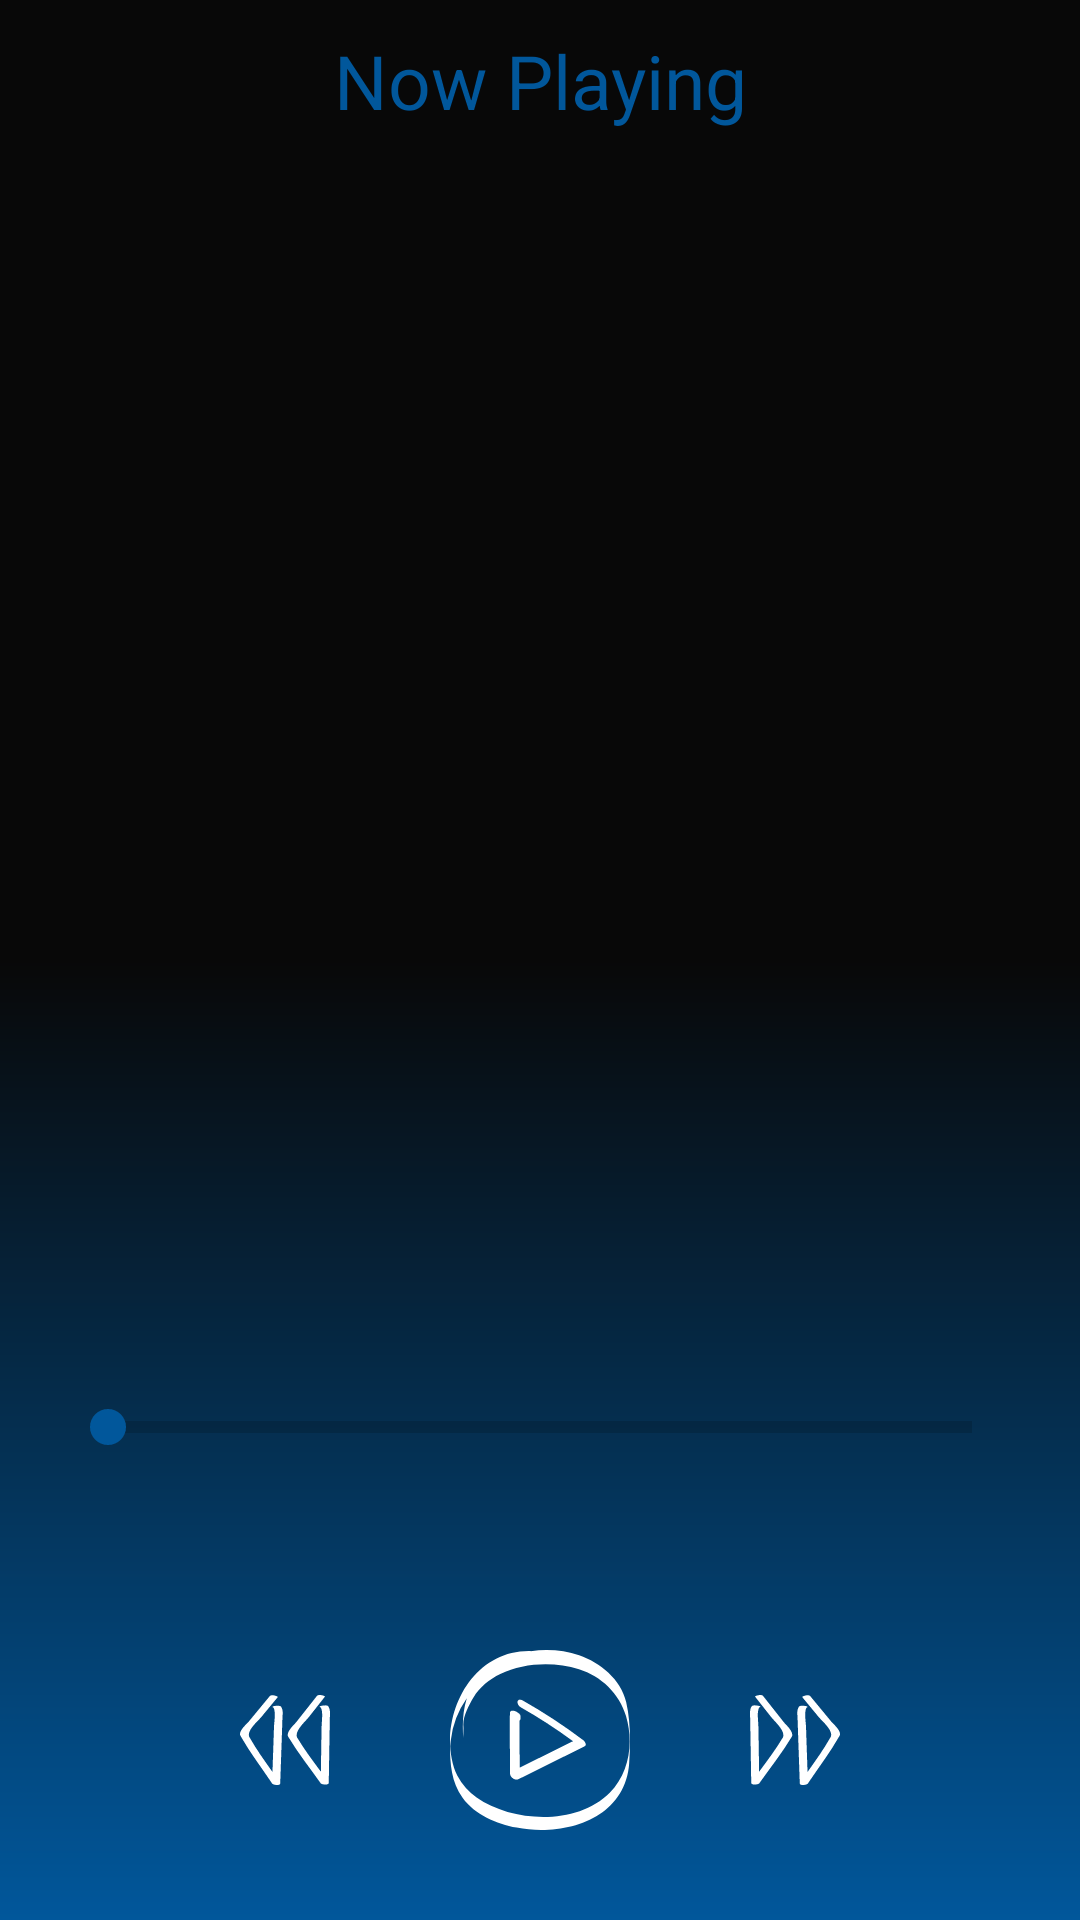

Point at icon controls on the screen. Image size 1080px x 1920px, points as (x,y).
next: (795,1740)
play: (540,1740)
prev: (285,1740)
